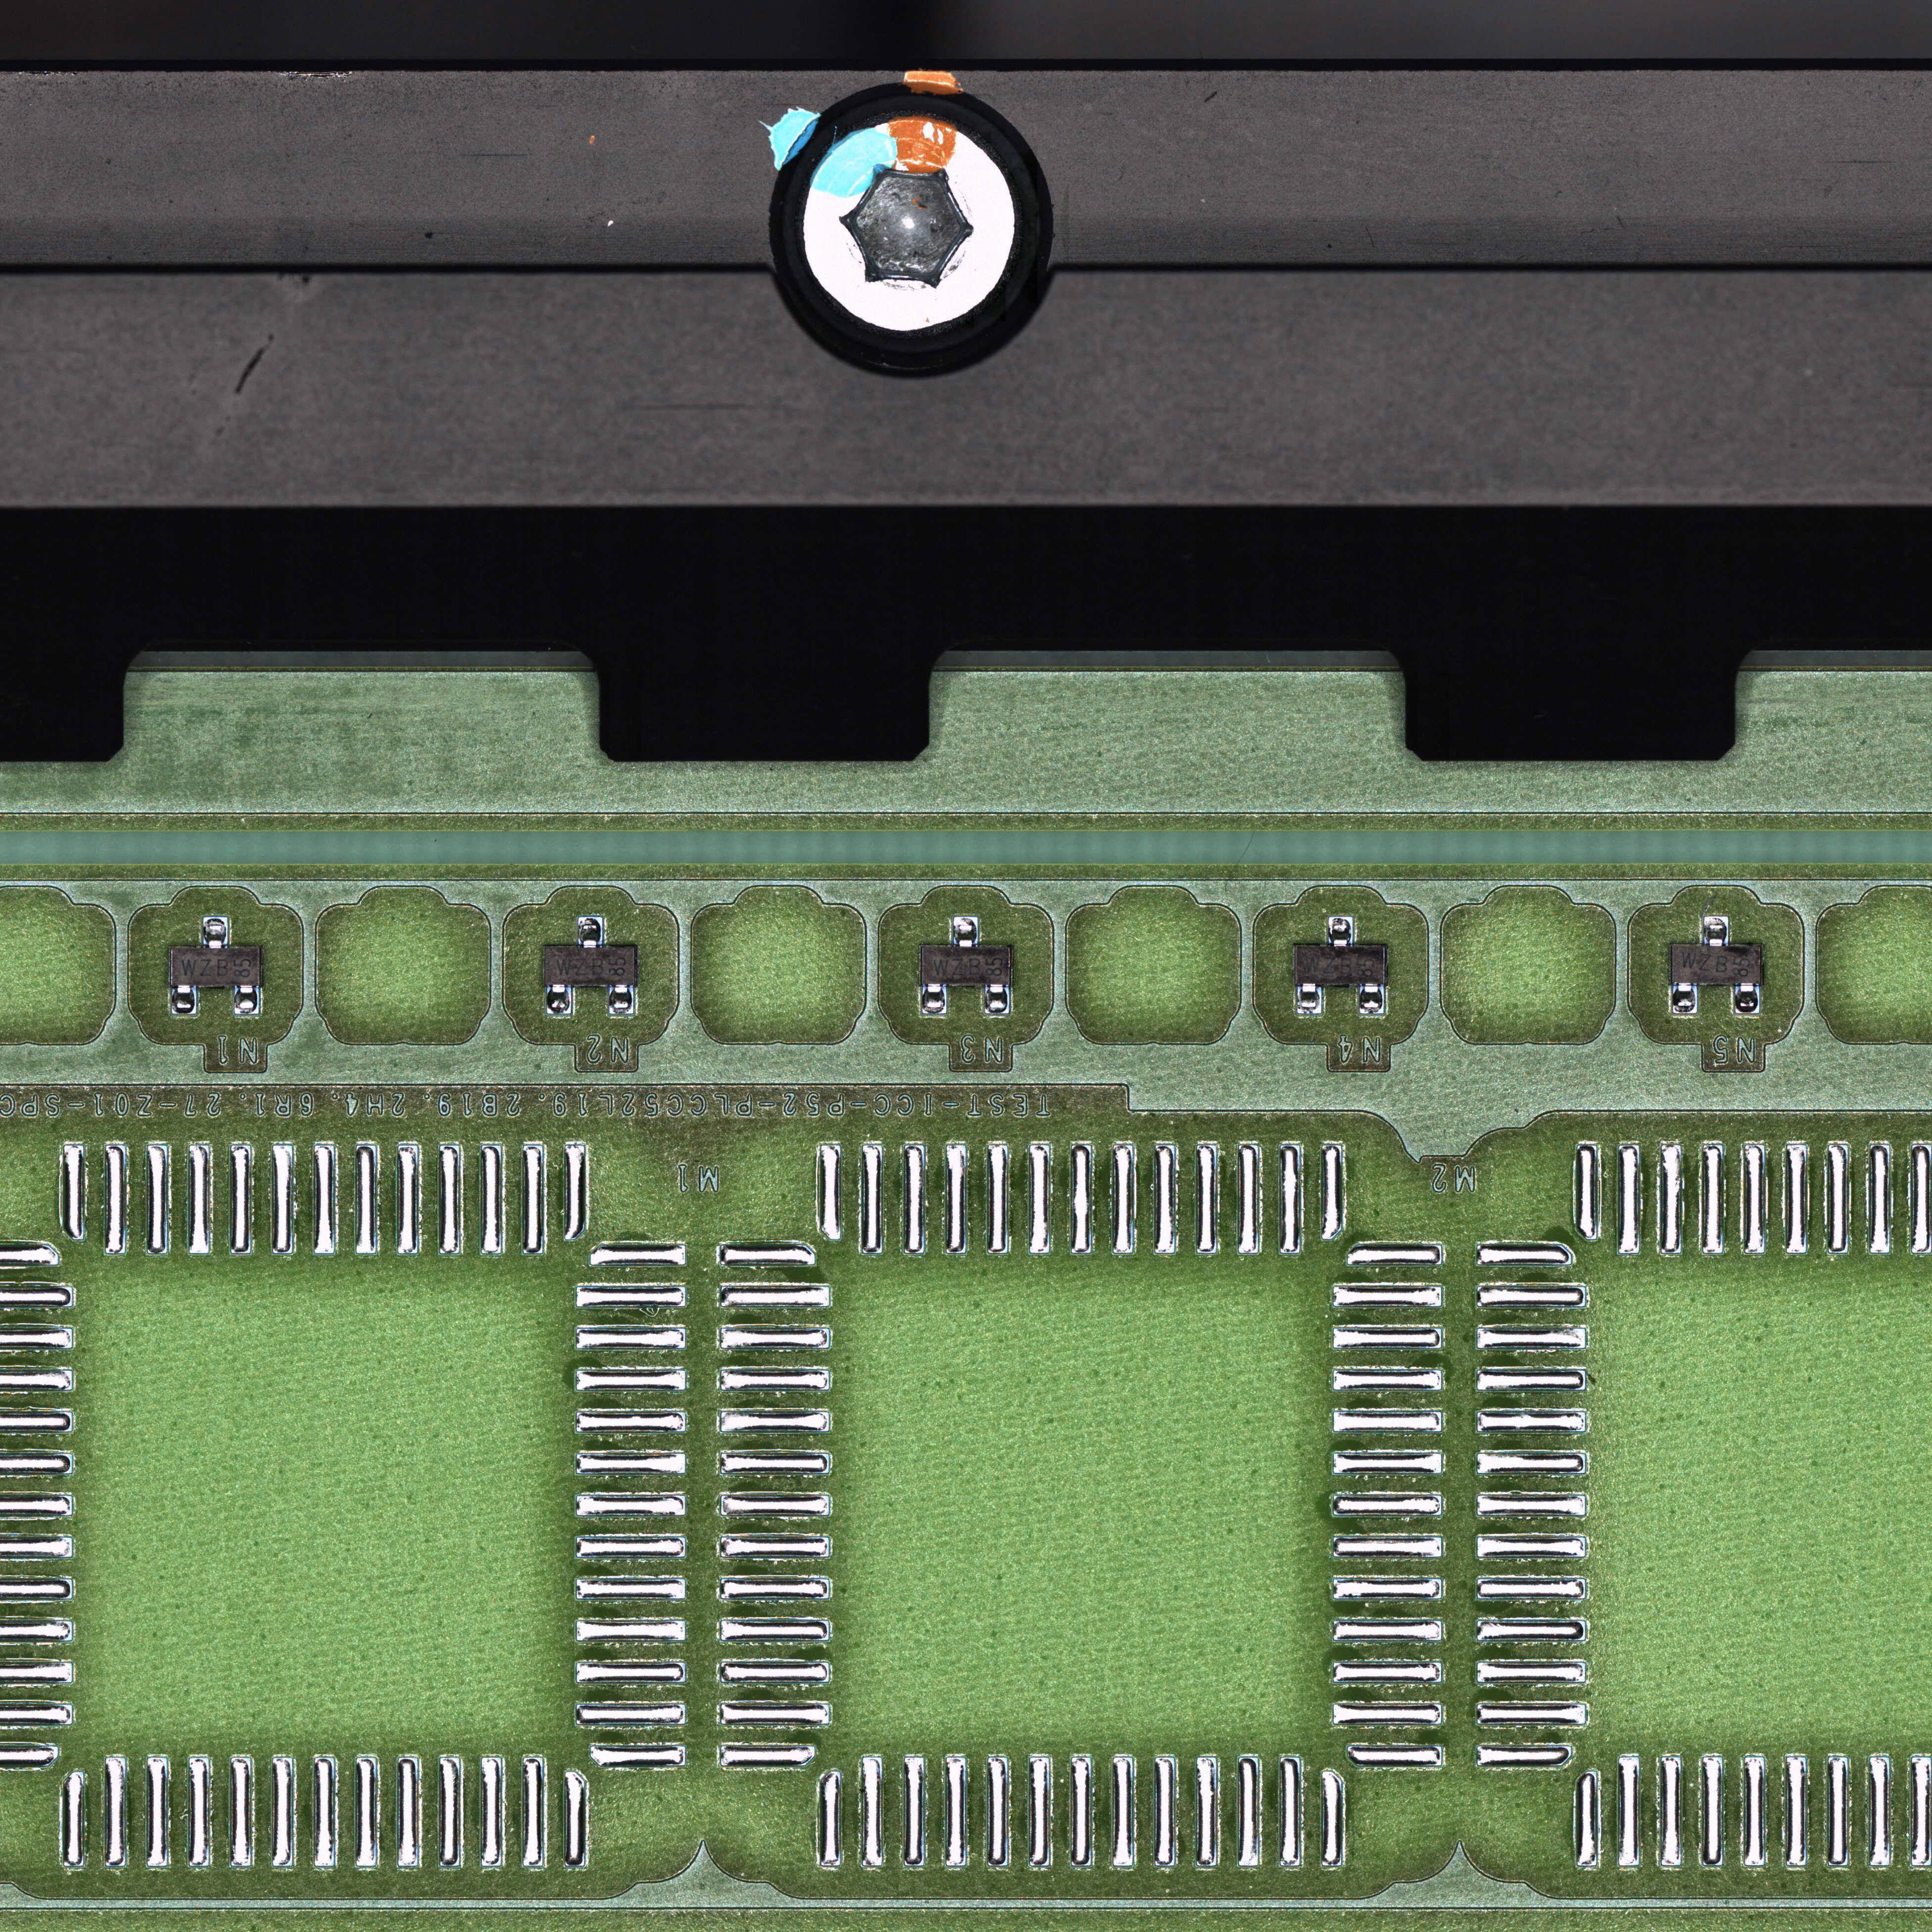Package: (920, 947, 1010, 985), (1295, 947, 1385, 985), (547, 948, 637, 985), (1670, 947, 1760, 984), (172, 948, 260, 985)
Solder: (203, 916, 228, 948), (579, 916, 603, 948), (1702, 915, 1727, 947), (234, 985, 260, 1014), (1359, 985, 1385, 1014), (1329, 916, 1353, 947), (1670, 984, 1695, 1014), (1734, 984, 1759, 1014), (172, 985, 196, 1014), (547, 985, 571, 1014), (610, 985, 635, 1014), (922, 985, 947, 1014), (984, 985, 1008, 1014), (1297, 985, 1322, 1014), (954, 916, 977, 947)
